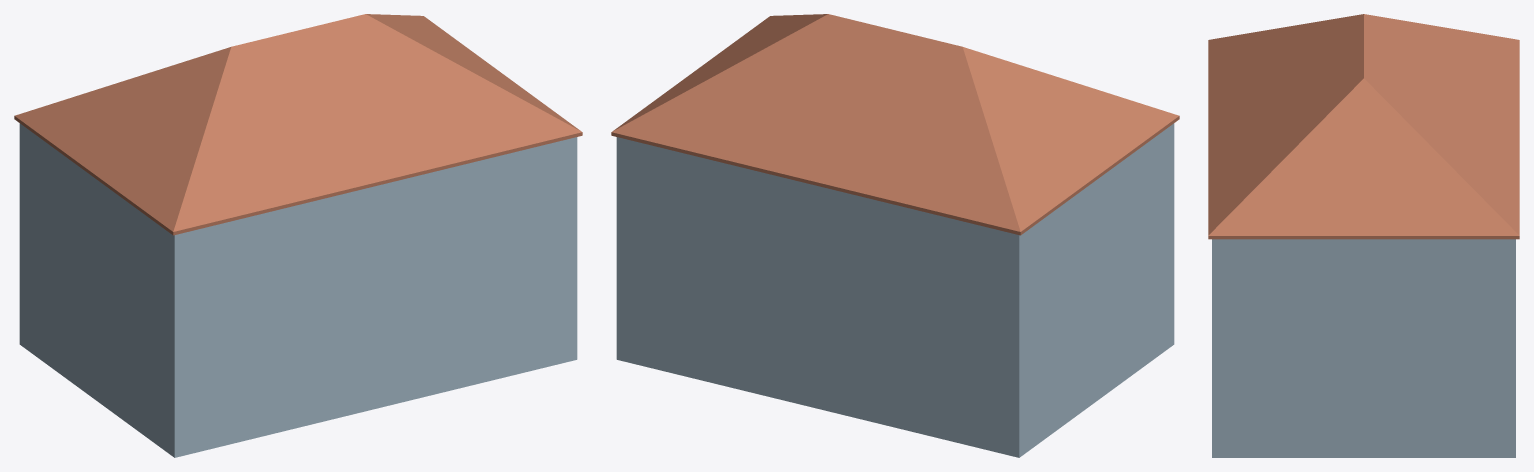
File: building.glb
3 renders of one model, left to right at view 1: azimuth 30°, elevation 25°; view 2: azimuth 150°, elevation 25°; view 3: azimuth 270°, elevation 25°, orthographic.
Visible parts, largest first — view 1: A03; view 2: A03; view 3: A03.
Part boxes in pixels (x1,y1,x2,y2): A03: (14,14,582,457); A03: (611,14,1179,457); A03: (1208,14,1519,457).
Size of the model in its own units: 18.3 by 13.75 by 12.3.
